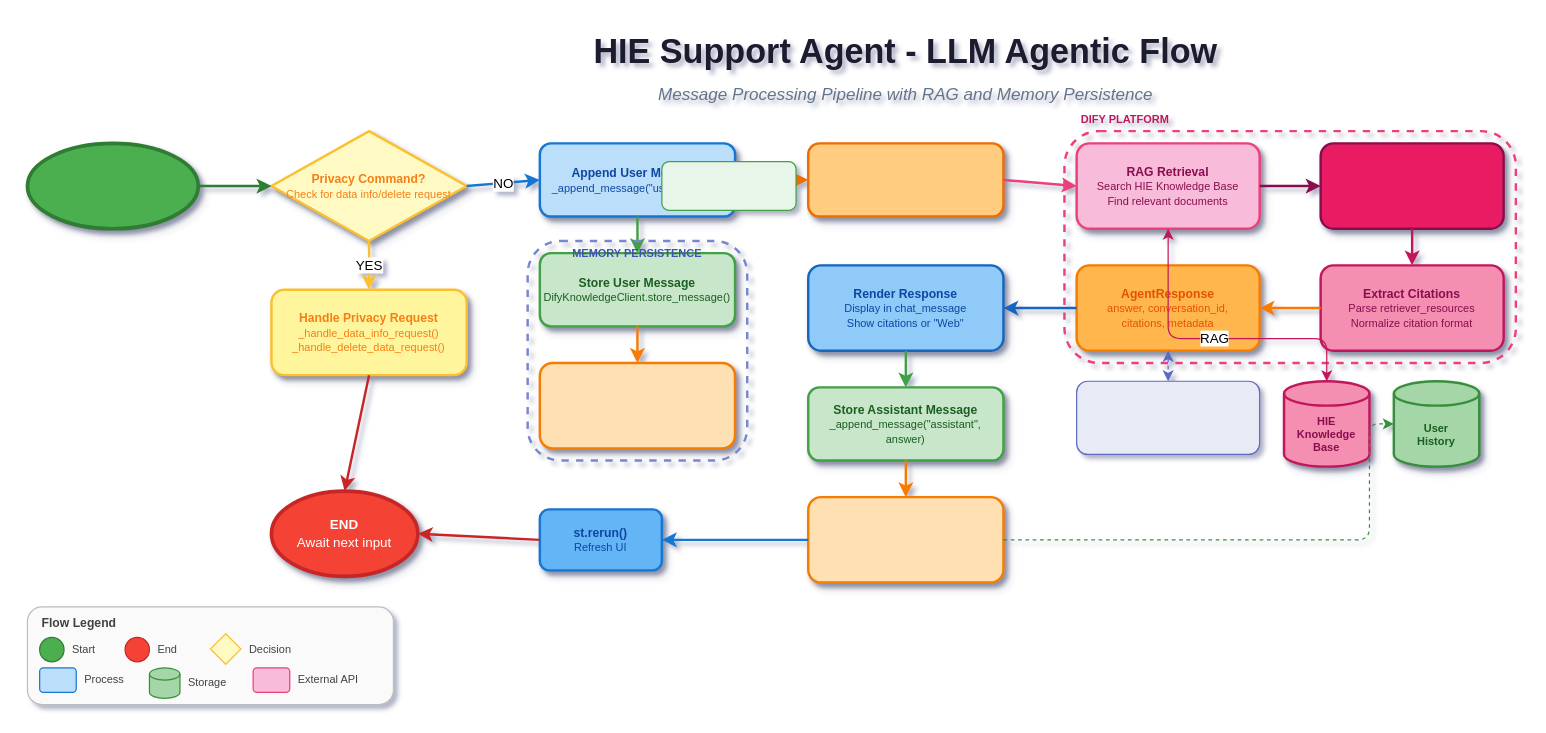
Some shapes in this 1546 by 733 pixel diagram are drawn without their labels. Each missing label, with the centre of its shape:
"Conversation Context conversation_id maintains multi-turn context" goes at point 1167,417.
"DifyAgent.run(prompt) Send to Dify Chat API" goes at point 906,181.
"LLM Processing Generate response with context HIE expertise + user history" goes at point 1413,187.
"Parallel: Storage happens alongside agent call" goes at point 728,185.
"START User sends message" goes at point 113,187.
"Summarize Message DifySummarizer.summarize() Extract: summary, name, HIE flag" goes at point 638,407.
"Summarize Response DifySummarizer.summarize() Store in Knowledge Base" goes at point 906,541.
